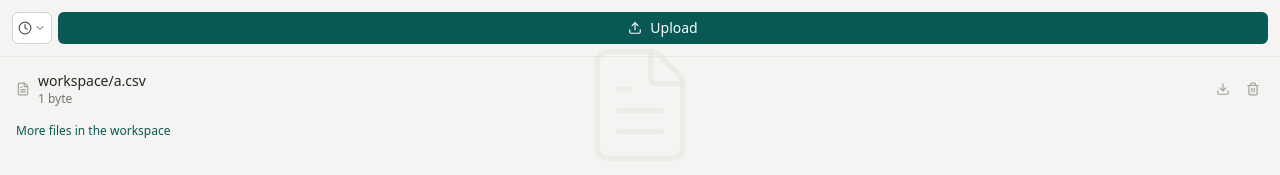
FilesPanel paging › reads the rest of a scope when asked
Click the button "More files in the workspace". click: (52, 130)
box: [8, 117, 1272, 145]
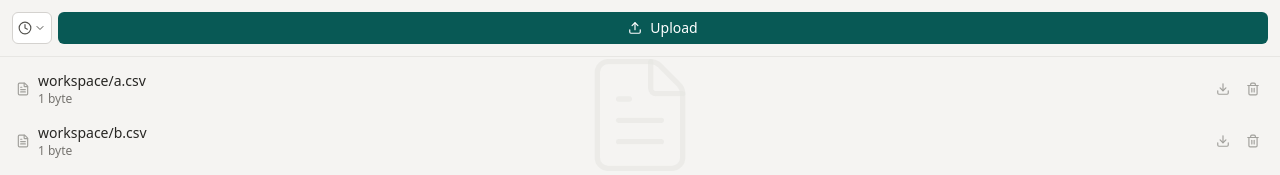
Expected: the text "workspace/a.csv" is shown, [38, 71, 146, 90]
Result: the text "workspace/b.csv" is shown at [38, 123, 147, 142]
Result: the button "More files" is gone
